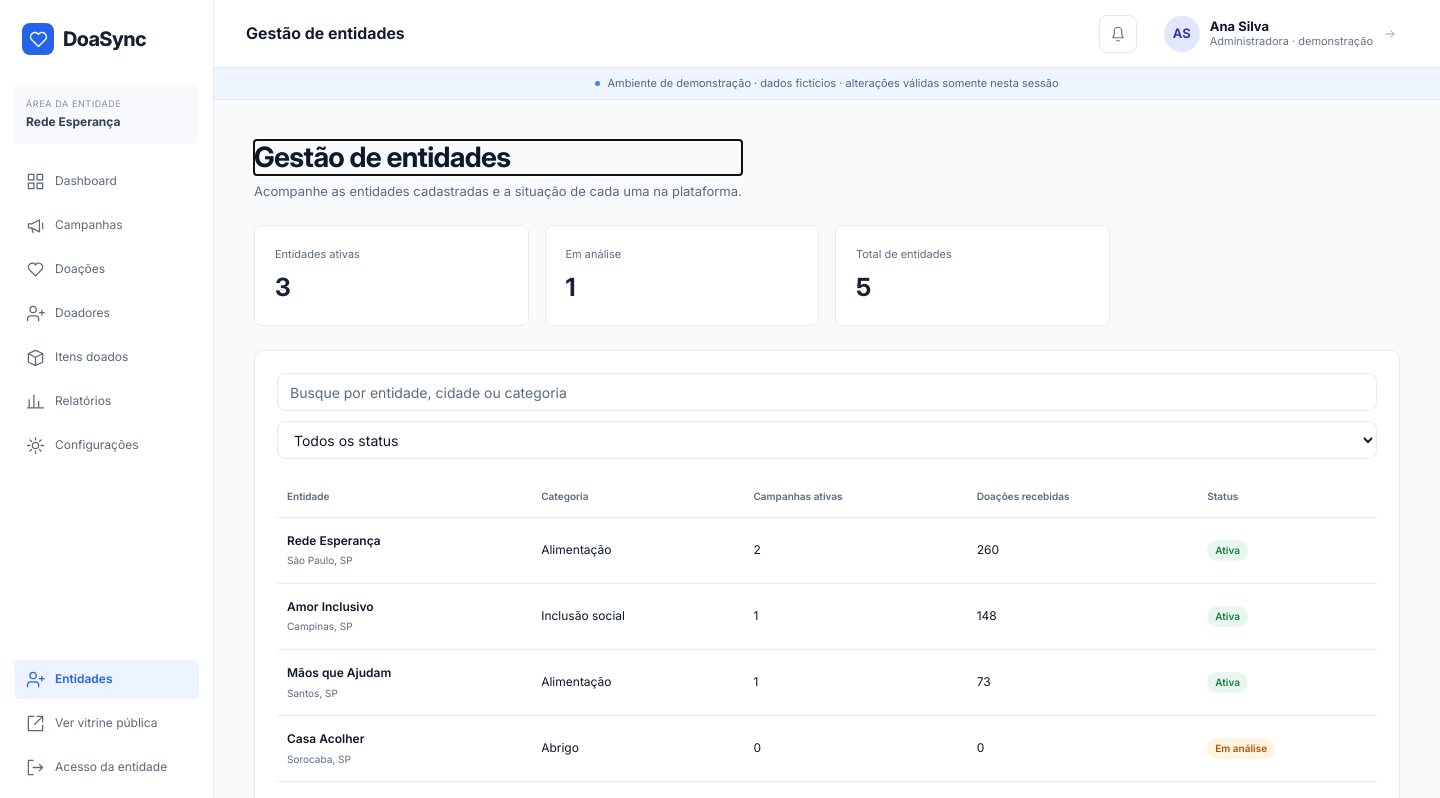
Test: Entidades (carregamento assíncrono) › filtra por status e texto e informa quando não há resultado
Expected: the heading "Gestão de entidades" is shown, [254, 140, 510, 174]
Select "Inativa" in the dropdown named "Todos os status" at (827, 440), box [277, 421, 1377, 459]
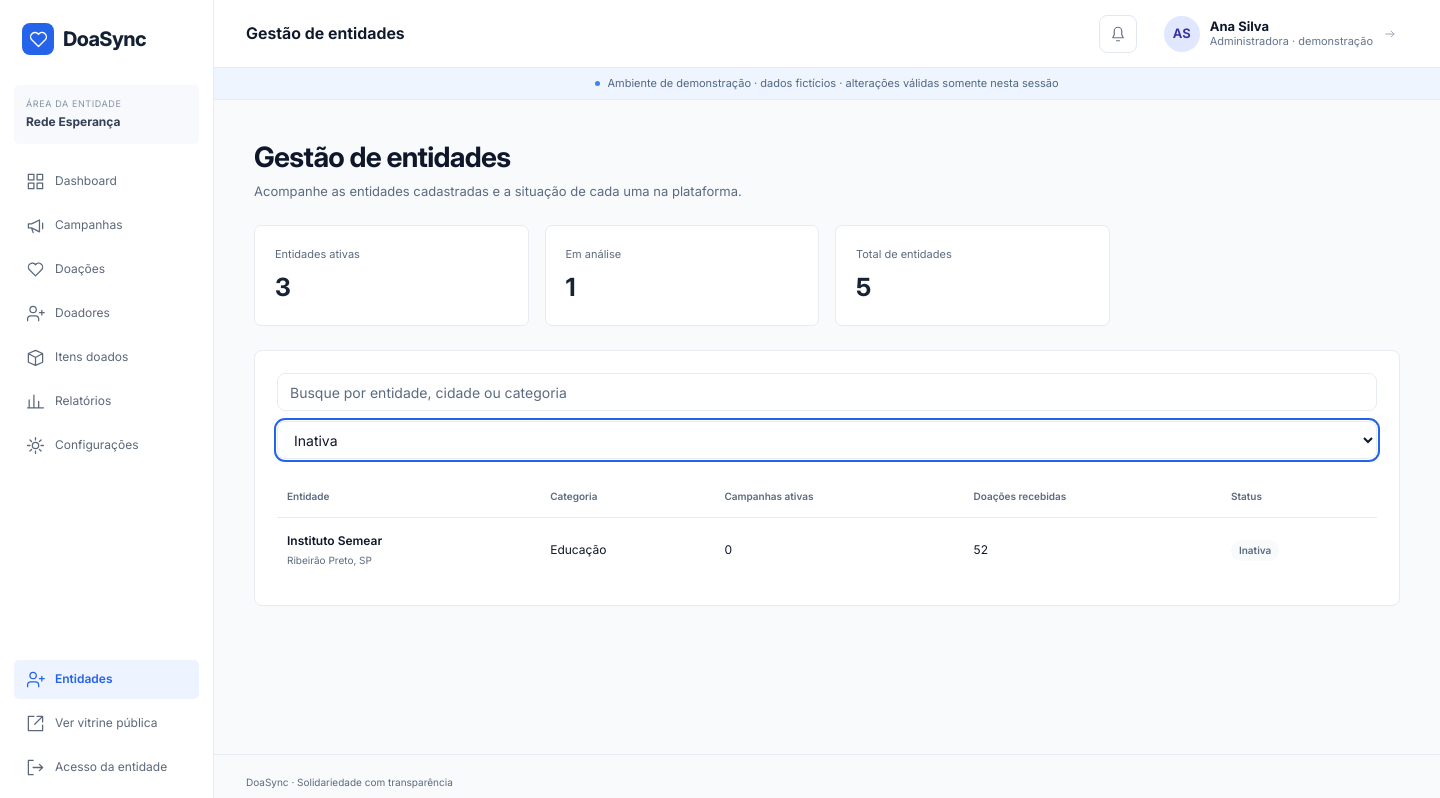
Expected: the text "Instituto Semear" is shown, [287, 533, 382, 548]
Select "Todos os status" in the dropdown named "Todos os status" at (827, 440), box [277, 421, 1377, 459]
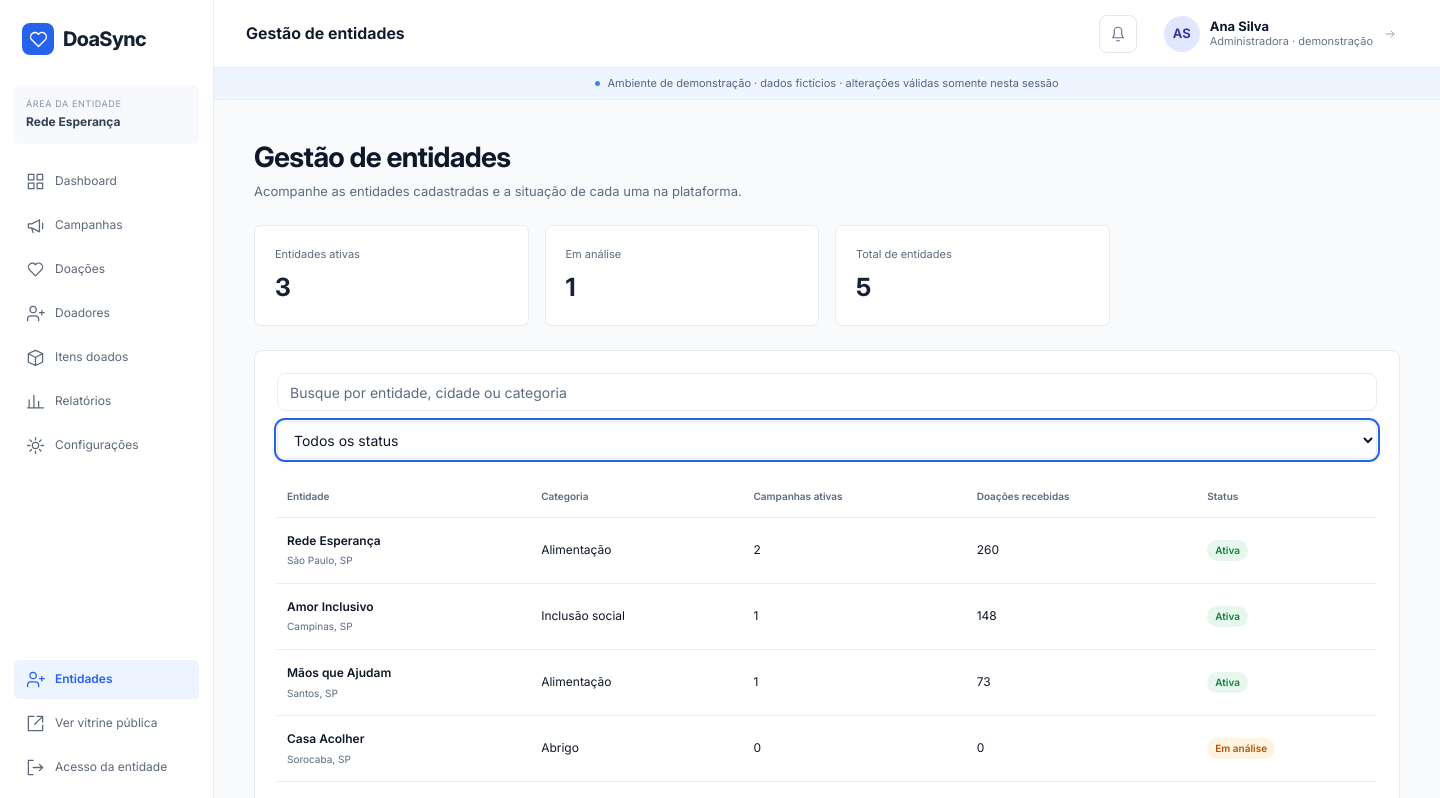
Type "CAMPINAS" into the search field labelled "Busque por entidade, cidade ou categoria" at (827, 392), box [277, 373, 1377, 411]
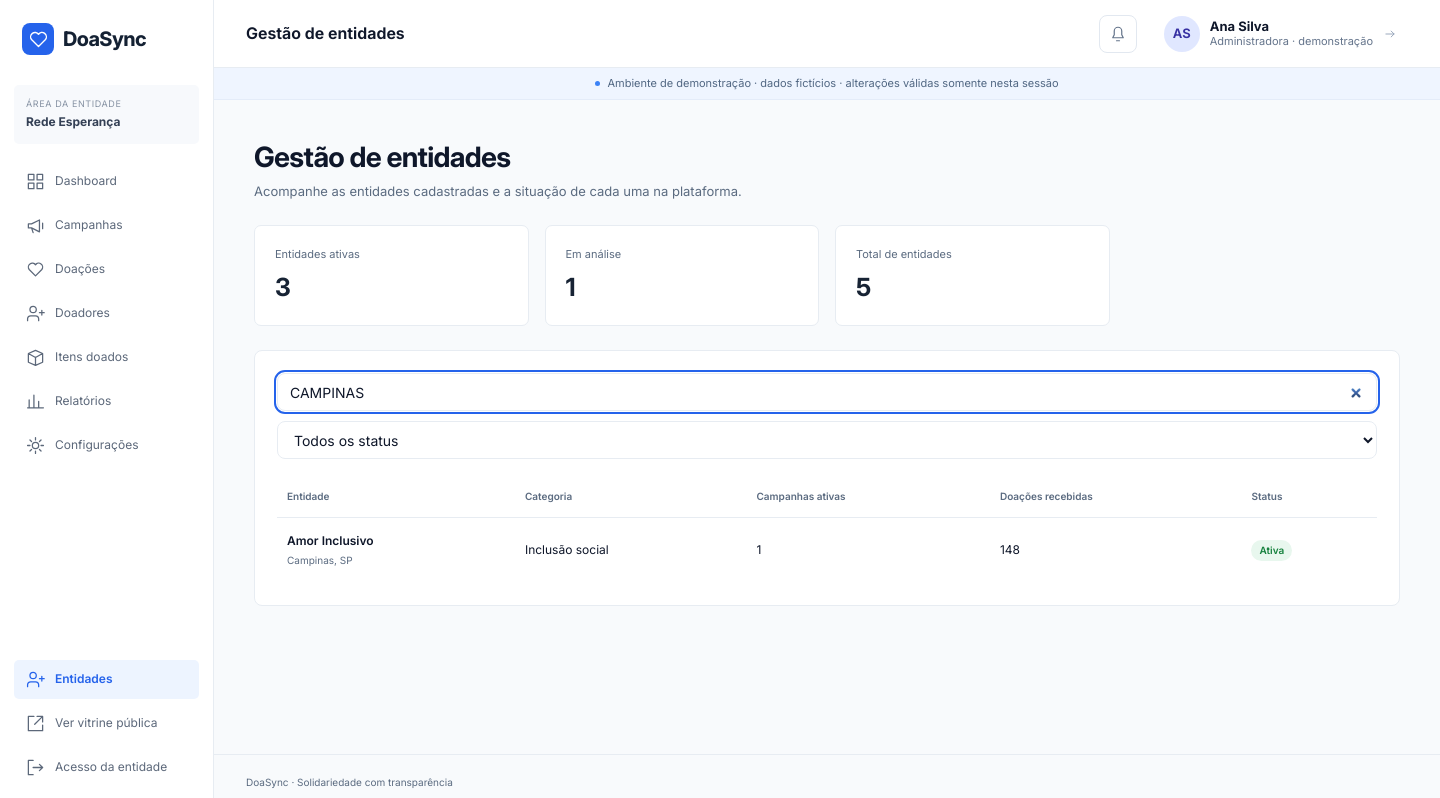
Now the text "Amor Inclusivo" is shown, box [287, 533, 374, 548]
Replace the text in the search field named "Busque por entidade" with "zzz" at (827, 392), box [277, 373, 1377, 411]
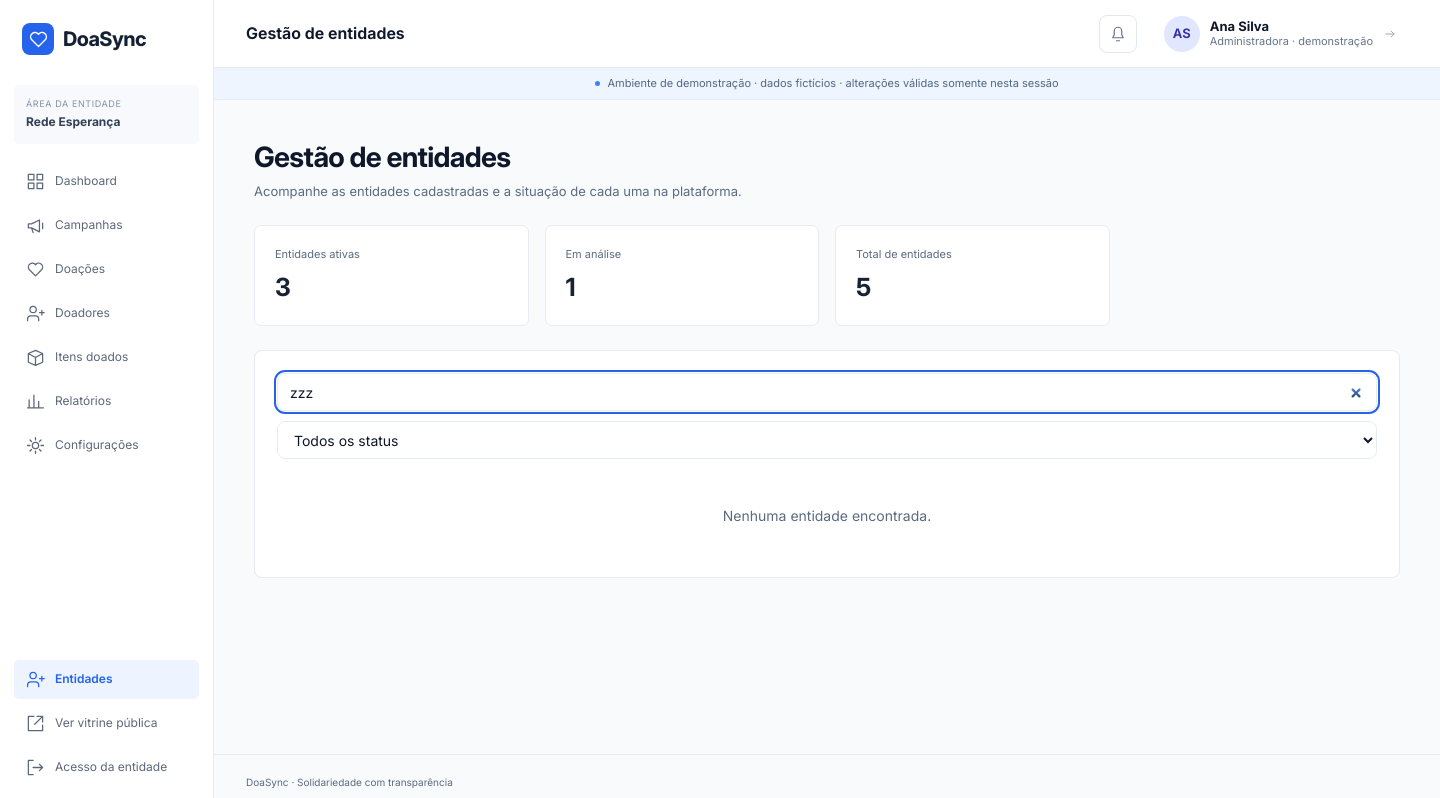
Now the text "Nenhuma entidade encontrada." is shown, box [723, 507, 931, 524]
